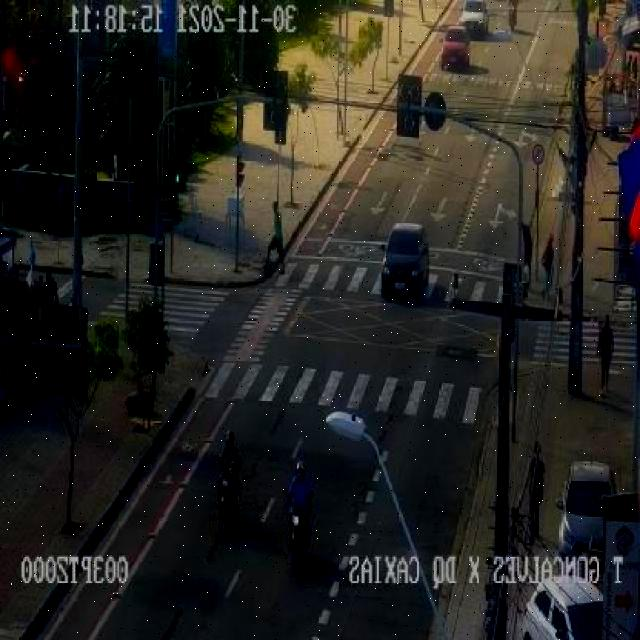Car: (518, 574, 605, 640), (558, 460, 614, 554), (380, 223, 430, 300), (440, 26, 470, 70), (459, 0, 489, 36)
Cycle: (279, 485, 317, 578), (212, 453, 245, 540)
